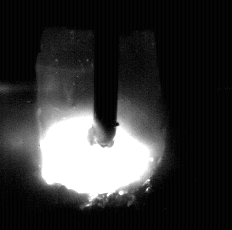arame: (94, 0, 119, 147)
poca: (37, 0, 167, 230)
